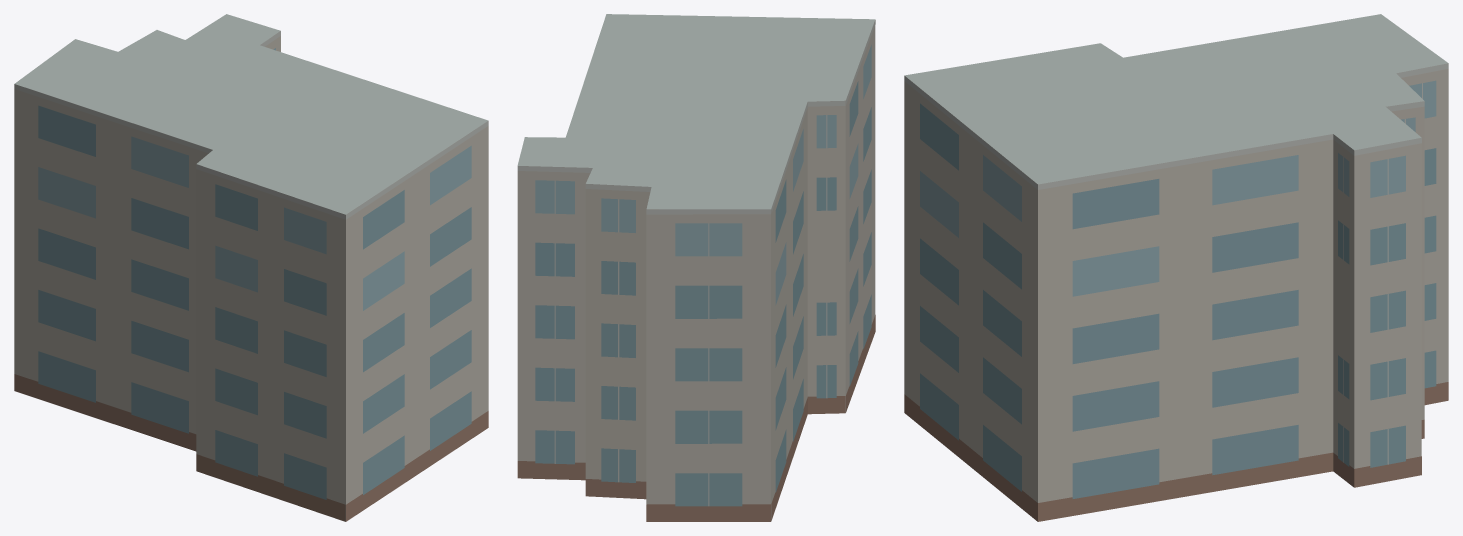
The model's file is survey-upis-33014211.glb.
The picture shows the model from 3 angles, left to right: view 1: azimuth 30°, elevation 25°; view 2: azimuth 150°, elevation 25°; view 3: azimuth 270°, elevation 25°; orthographic projection. The views are drawn at different scales.
Visible parts, largest first — view 1: survey-upis-33014211.tmp; view 2: survey-upis-33014211.tmp; view 3: survey-upis-33014211.tmp.
Part boxes in pixels (<box>): survey-upis-33014211.tmp: <box>14,14,488,521</box>; survey-upis-33014211.tmp: <box>517,14,875,521</box>; survey-upis-33014211.tmp: <box>904,14,1448,521</box>.
Bounding box in the file's own units: 16.16 × 14.9 × 21.8.
